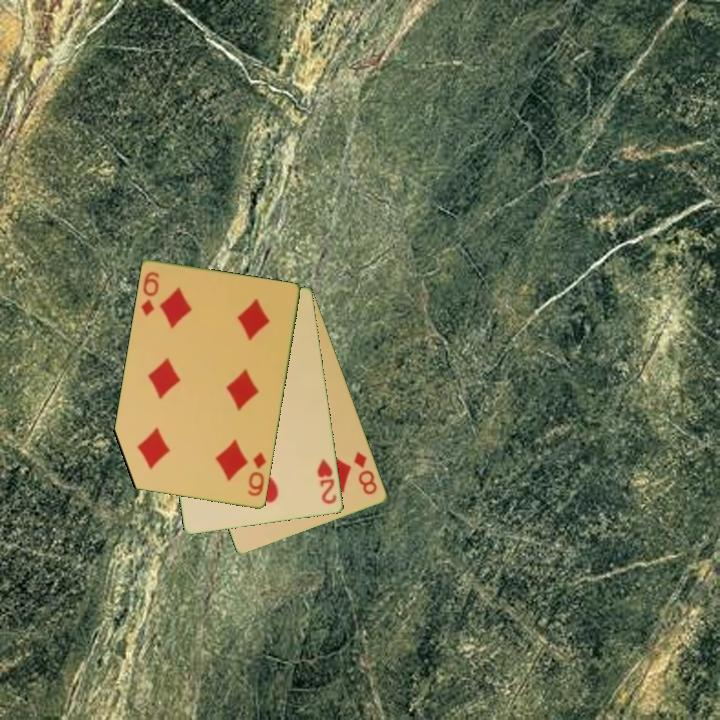2h: (314, 456, 340, 507)
6d: (245, 449, 269, 500), (138, 268, 162, 319)
8d: (351, 448, 380, 498)
